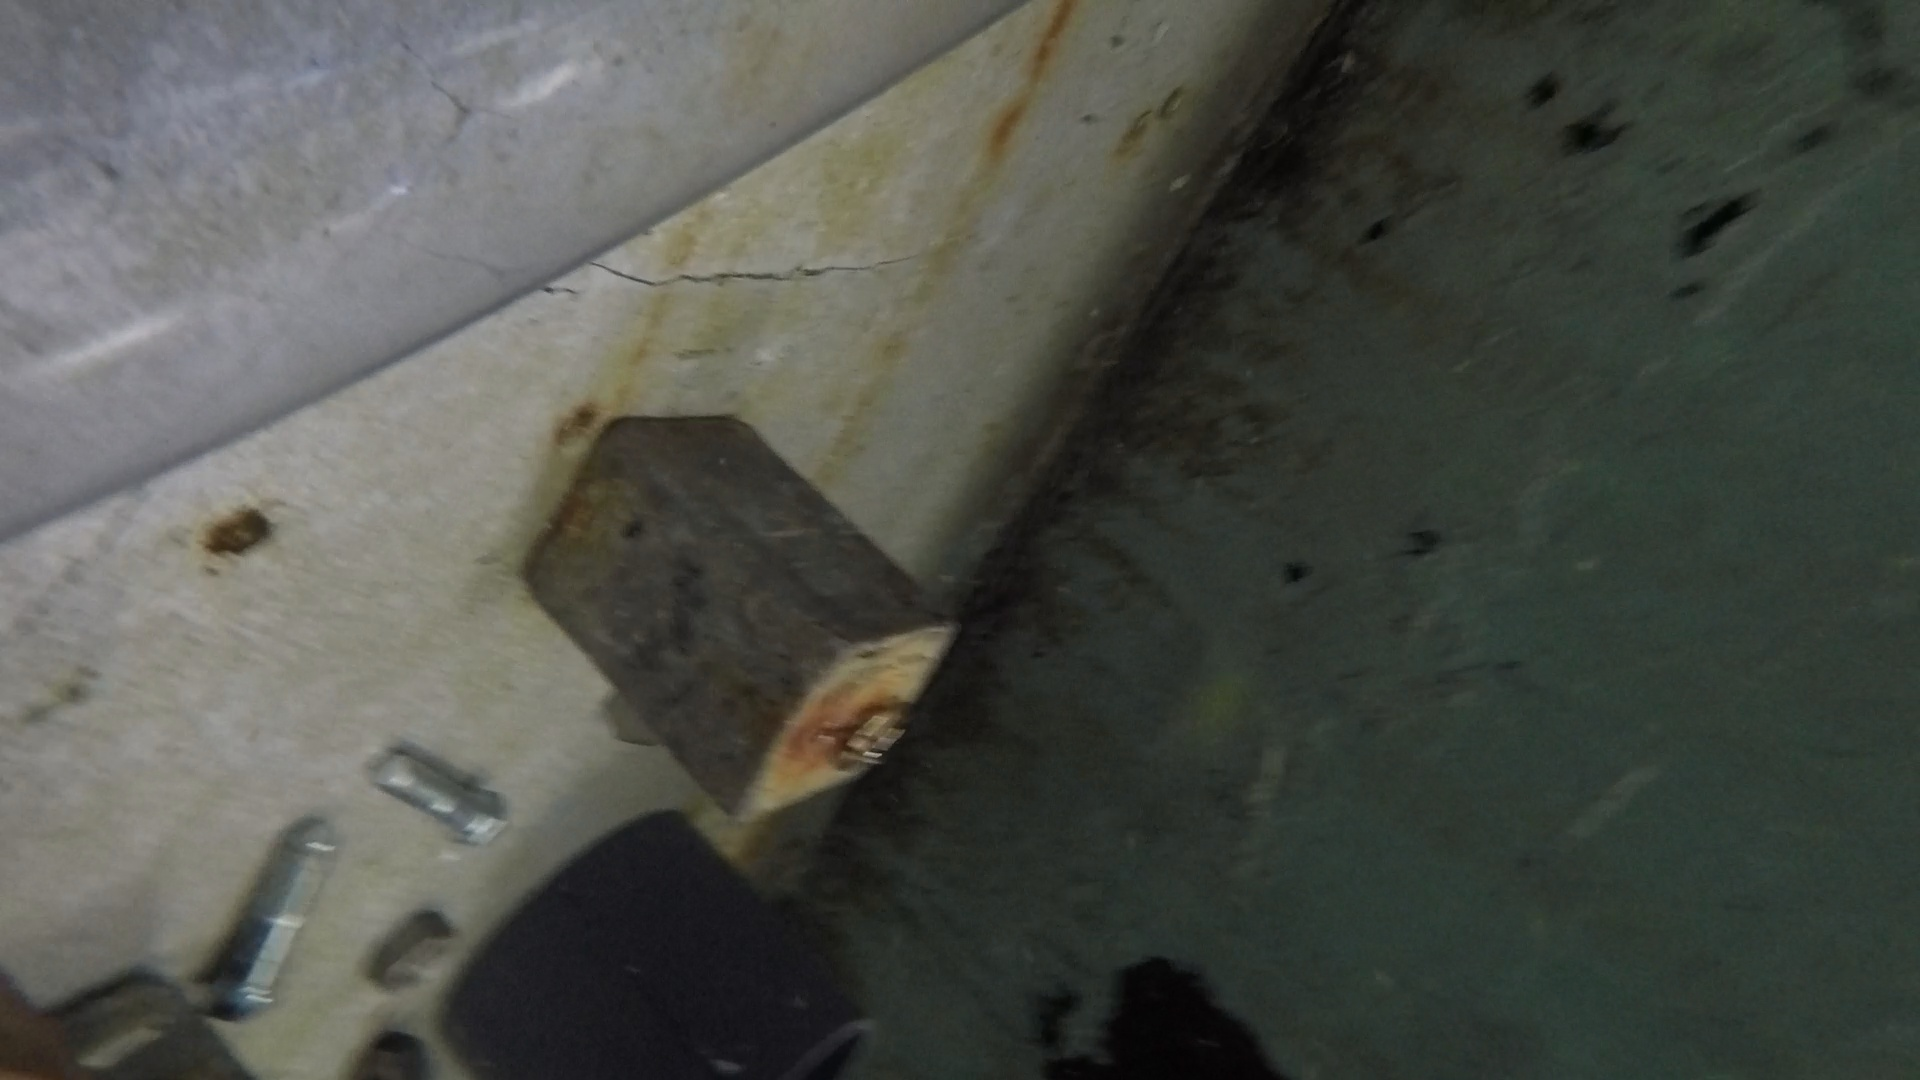bolt: (199, 819, 335, 1022), (372, 748, 506, 848)
led_block: (522, 414, 963, 818), (37, 963, 260, 1080)
nut: (371, 911, 458, 997), (353, 1033, 429, 1080)
pipe: (436, 808, 880, 1080)
